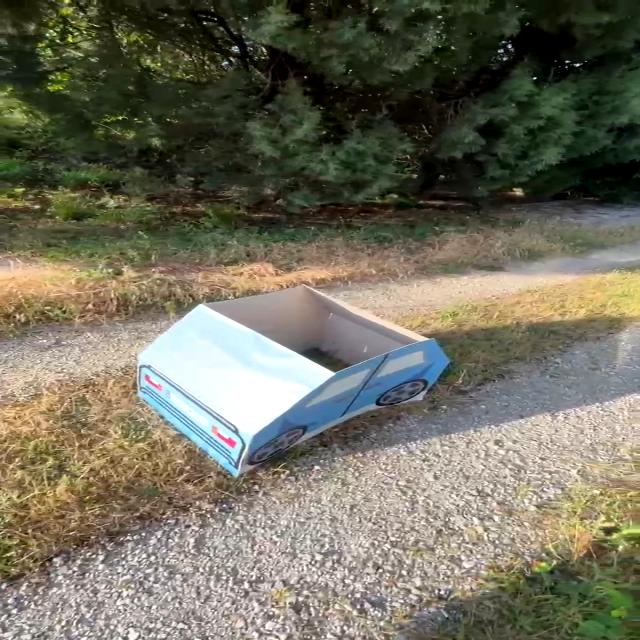blue_car: (80, 268, 489, 494)
